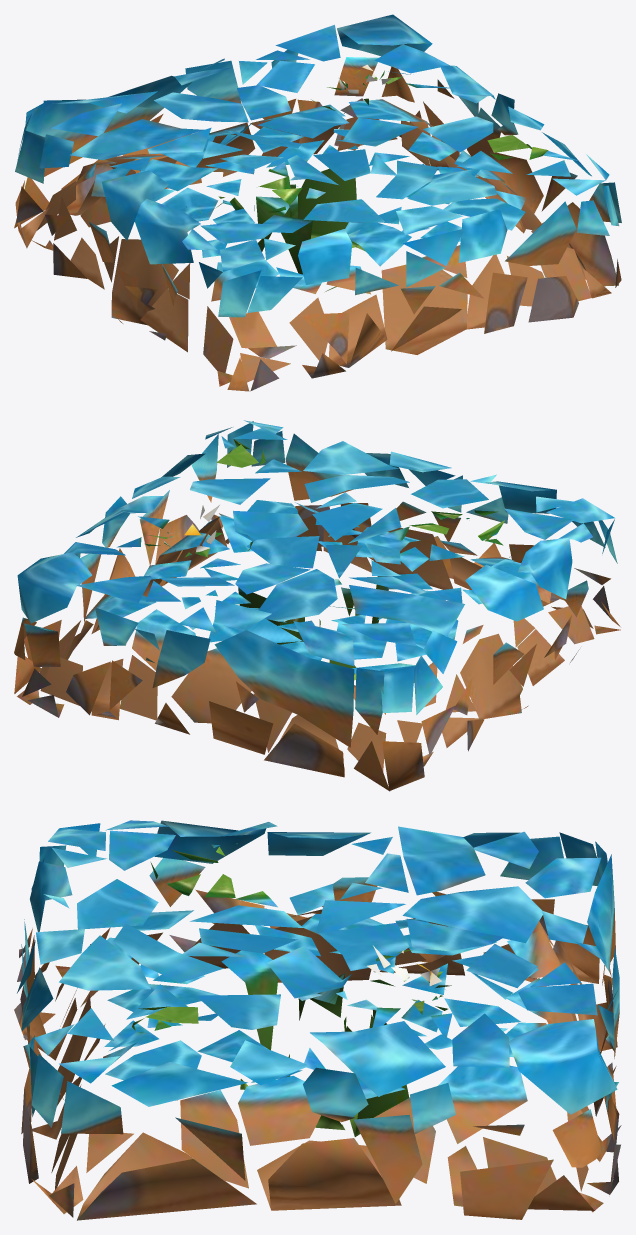
The model's file is lotus-water.glb.
3 views of the same model, one above another, from view 1: azimuth 30°, elevation 25°; view 2: azimuth 150°, elevation 25°; view 3: azimuth 270°, elevation 25° (orthographic). The views are drawn at different scales.
Parts seen in each view (by area): view 1: Mesh_0; view 2: Mesh_0; view 3: Mesh_0.
Boxes of the visible parts, x1=… form: Mesh_0: x1=14, y1=14, x2=621, y2=391; Mesh_0: x1=14, y1=420, x2=620, y2=791; Mesh_0: x1=14, y1=820, x2=621, y2=1220.
Size of the model in its own units: 1.88 by 0.6905 by 1.87.
Materials: 1 (1 with a texture image).
